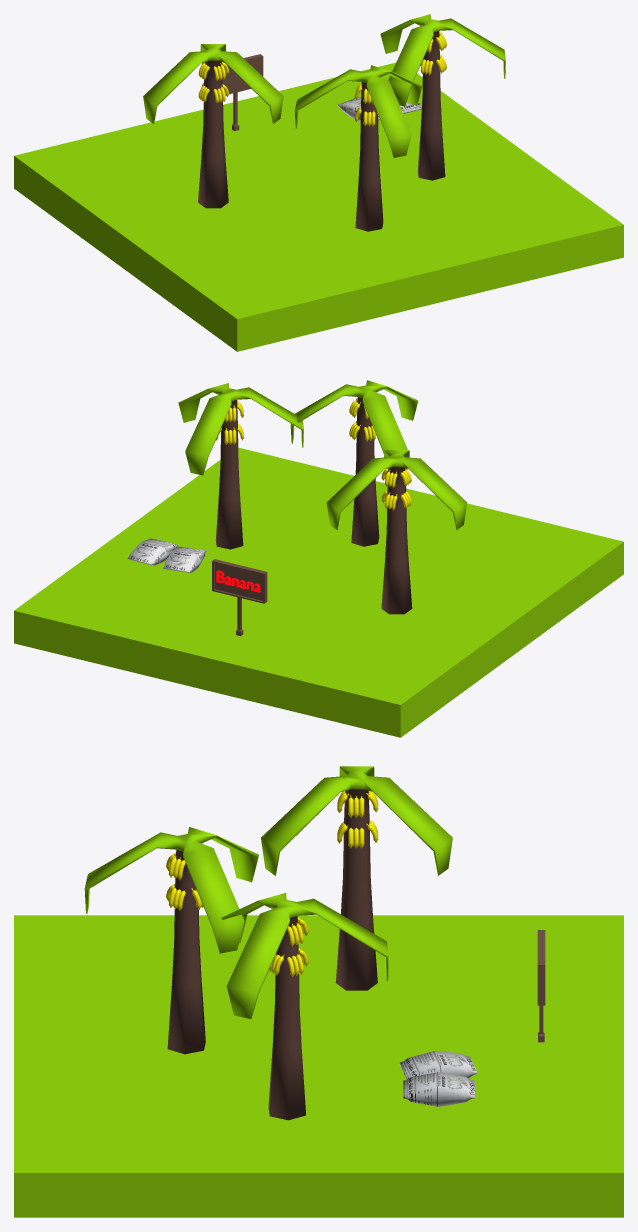
File: Banana_A.fbx
3 renders of one model, top to bottom at view 1: azimuth 30°, elevation 25°; view 2: azimuth 150°, elevation 25°; view 3: azimuth 270°, elevation 25°, orthographic. The views are drawn at different scales.
Visible parts, largest first — view 1: Cube.030, Plane.035, Plane.041, Plane.040, Cube.062; view 2: Cube.030, Plane.035, Plane.041, Plane.040, Cube.062, Plane.039, Plane.009; view 3: Cube.030, Plane.035, Plane.040, Plane.041, Plane.039, Plane.009, Cube.062.
Part boxes in pixels (x1,y1,x2,y2): Cube.030: (14, 62, 623, 351); Plane.035: (143, 44, 283, 208); Plane.041: (380, 14, 505, 180); Plane.040: (294, 65, 422, 231); Cube.062: (222, 54, 263, 131); Cube.030: (14, 447, 623, 737); Plane.035: (326, 450, 466, 614); Plane.041: (178, 383, 303, 549); Plane.040: (290, 380, 418, 546); Cube.062: (212, 559, 267, 636); Plane.039: (127, 538, 177, 565); Plane.009: (163, 546, 206, 572); Cube.030: (14, 915, 623, 1217); Plane.035: (261, 766, 452, 990); Plane.040: (84, 827, 258, 1054); Plane.041: (221, 893, 388, 1120); Plane.039: (403, 1072, 474, 1106); Plane.009: (399, 1051, 477, 1079); Cube.062: (537, 930, 545, 1042).
Size of the model in its own units: 2690 by 1224 by 2690.
